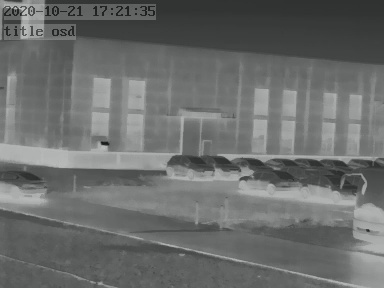vehicle: (303, 173, 356, 201), (237, 169, 303, 191), (1, 170, 46, 201), (165, 152, 212, 179), (204, 153, 242, 177), (233, 155, 270, 171), (343, 156, 380, 172), (318, 156, 352, 171), (262, 155, 296, 169), (295, 155, 326, 169)
